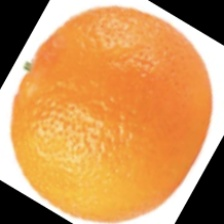orange: (9, 37, 203, 223)
